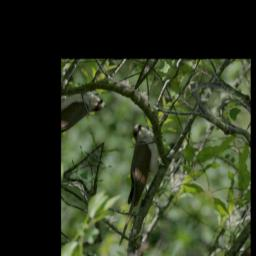Cuckoo: (78, 121, 179, 248)
